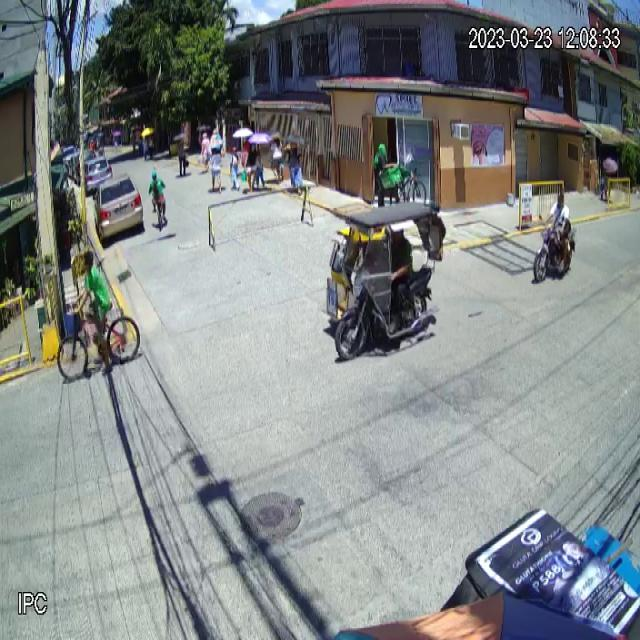Car: (93, 173, 143, 246)
Motorcycle: (533, 214, 576, 283)
Tricycle: (322, 198, 437, 360)
